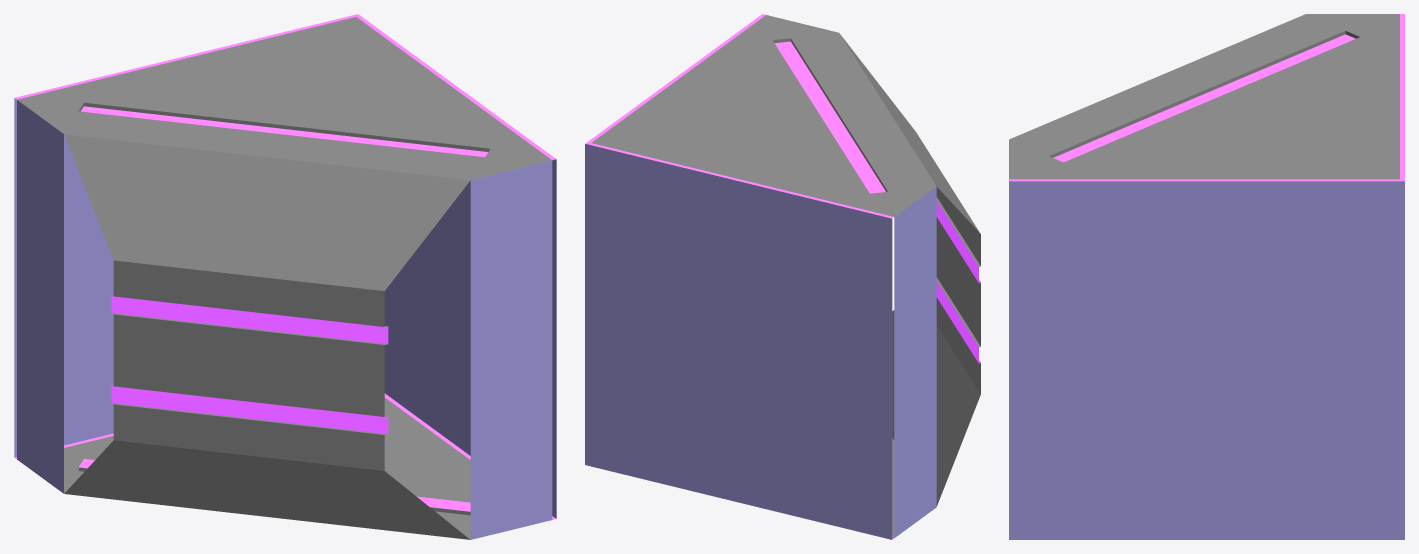
Rendered from PlatformCornerInverted.FBX.
The picture shows the model from 3 angles, left to right: view 1: azimuth 30°, elevation 25°; view 2: azimuth 150°, elevation 25°; view 3: azimuth 270°, elevation 25°; orthographic projection. The views are drawn at different scales.
Parts seen in each view (by area): view 1: PlatformCornerInverted; view 2: PlatformCornerInverted; view 3: PlatformCornerInverted.
Boxes of the visible parts, left/top/right/bottom form: PlatformCornerInverted: left=14, top=14, right=556, bottom=539; PlatformCornerInverted: left=585, top=14, right=980, bottom=539; PlatformCornerInverted: left=1009, top=14, right=1404, bottom=539.
Size of the model in its own units: 100 by 100 by 100.
